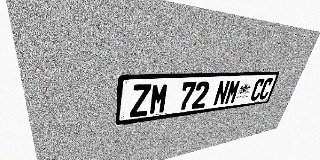2: (191, 81, 210, 109)
7: (177, 82, 197, 111)
C: (249, 78, 266, 101), (258, 78, 274, 100)
M: (148, 83, 169, 115), (224, 79, 242, 105)
N: (212, 80, 231, 106)
Z: (130, 84, 151, 118)
